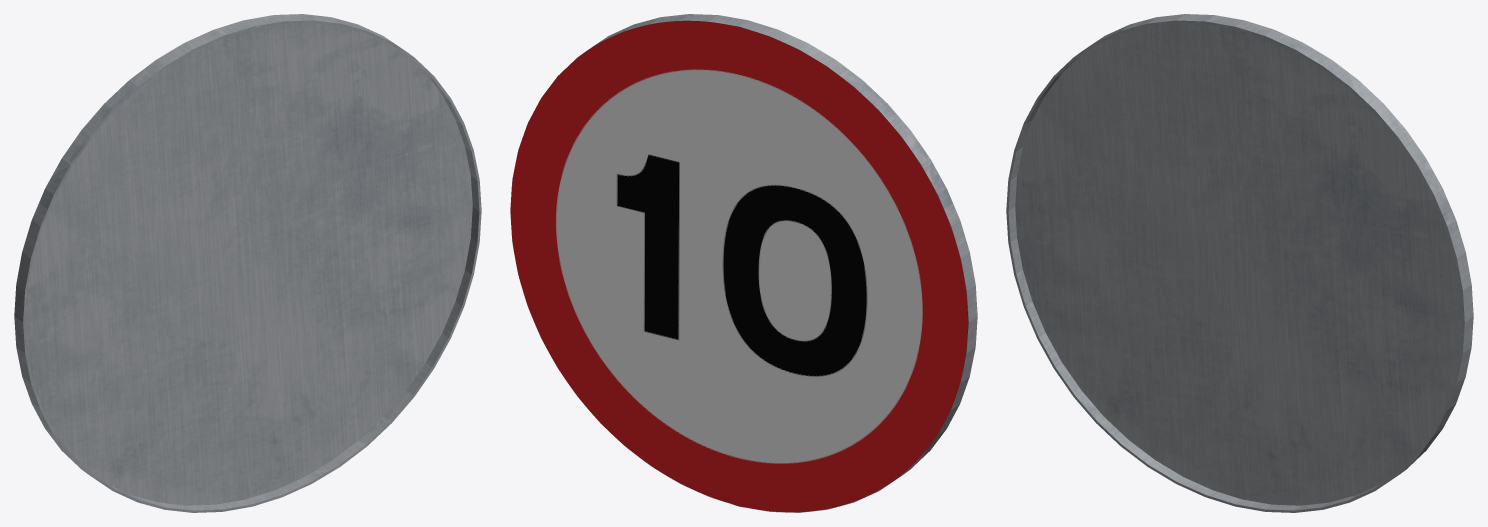
The model's file is Speed_limit_10mph.fbx.
The picture shows the model from 3 angles, left to right: view 1: azimuth 30°, elevation 25°; view 2: azimuth 150°, elevation 25°; view 3: azimuth 330°, elevation 25°; orthographic projection.
Visible parts, largest first — view 1: Speed limit 10mph; view 2: Speed limit 10mph; view 3: Speed limit 10mph.
Boxes of the visible parts, x1,y1,x2,y2 form: Speed limit 10mph: (14, 14, 481, 512); Speed limit 10mph: (510, 14, 977, 512); Speed limit 10mph: (1006, 14, 1473, 512).
Size of the model in its own units: 0.02 by 0.6 by 0.6.
